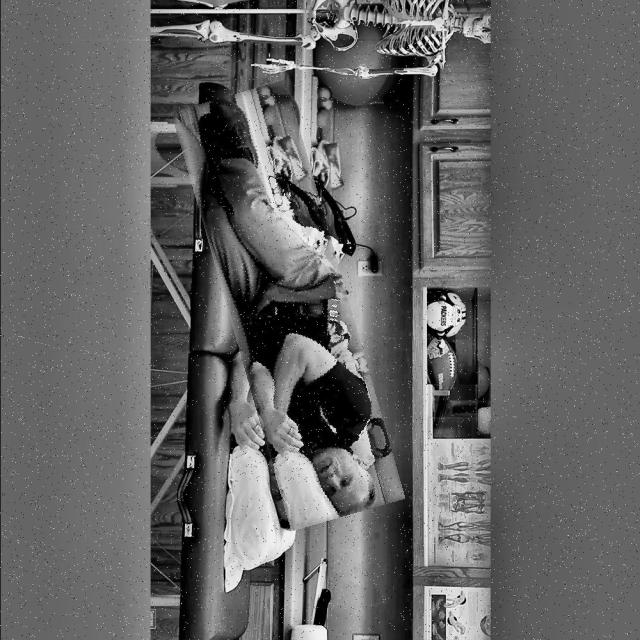Not_Supine: (199, 98, 371, 514)
